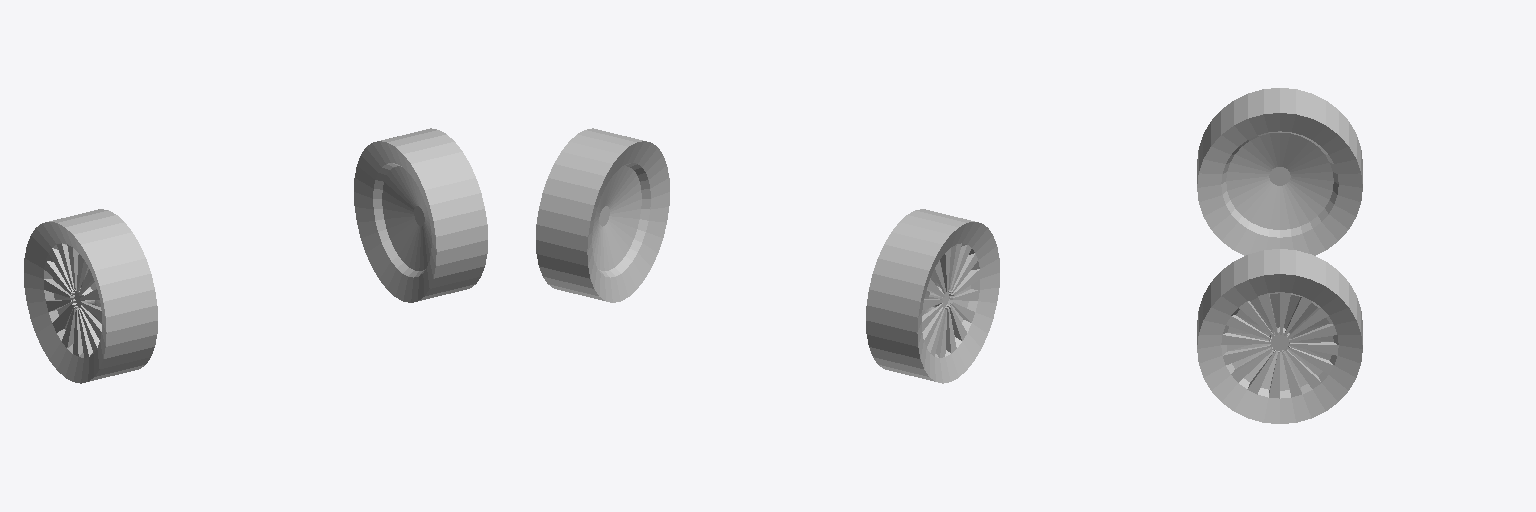
File: rodas_tras.obj
The picture shows the model from 3 angles: view 1: azimuth 30°, elevation 25°; view 2: azimuth 150°, elevation 25°; view 3: azimuth 270°, elevation 25°; orthographic projection.
Parts seen in each view (by area): view 1: Roda_tras; view 2: Roda_tras; view 3: Roda_tras.
Boxes of the visible parts, x1,y1,x2,y2 form: Roda_tras: [24, 128, 487, 383]; Roda_tras: [536, 128, 999, 383]; Roda_tras: [1197, 88, 1362, 423].
Size of the model in its own units: 1.56 by 0.5859 by 0.5859.